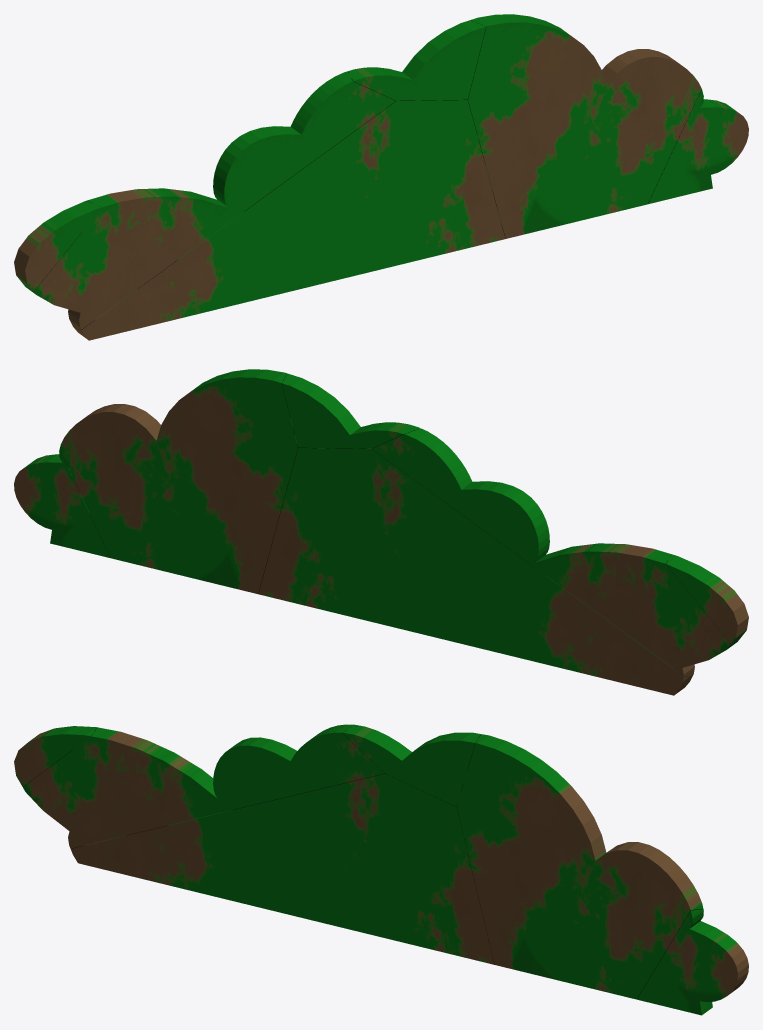
Rendered from Arbusto3.fbx.
The picture shows the model from 3 angles, top to bottom: view 1: azimuth 30°, elevation 25°; view 2: azimuth 150°, elevation 25°; view 3: azimuth 330°, elevation 25°; orthographic projection.
Parts seen in each view (by area): view 1: arbusto 3_cell.003, arbusto 3_cell, arbusto 3_cell.001, arbusto 3_cell.006, arbusto 3_cell.004, arbusto 3_cell.007; view 2: arbusto 3_cell.003, arbusto 3_cell, arbusto 3_cell.001, arbusto 3_cell.004, arbusto 3_cell.006, arbusto 3_cell.007; view 3: arbusto 3_cell.003, arbusto 3_cell, arbusto 3_cell.001, arbusto 3_cell.004, arbusto 3_cell.006, arbusto 3_cell.007.
Part boxes in pixels (bbox=[...]): arbusto 3_cell.003: bbox=[68, 99, 505, 340]; arbusto 3_cell: bbox=[467, 14, 701, 238]; arbusto 3_cell.001: bbox=[21, 71, 395, 329]; arbusto 3_cell.006: bbox=[348, 20, 485, 100]; arbusto 3_cell.004: bbox=[648, 89, 748, 204]; arbusto 3_cell.007: bbox=[14, 201, 101, 291]; arbusto 3_cell.003: bbox=[258, 447, 691, 695]; arbusto 3_cell: bbox=[59, 369, 298, 593]; arbusto 3_cell.001: bbox=[372, 428, 739, 676]; arbusto 3_cell.004: bbox=[14, 450, 110, 557]; arbusto 3_cell.006: bbox=[282, 373, 420, 448]; arbusto 3_cell.007: bbox=[666, 554, 748, 643]; arbusto 3_cell.003: bbox=[70, 773, 494, 964]; arbusto 3_cell: bbox=[457, 734, 703, 999]; arbusto 3_cell.001: bbox=[23, 724, 384, 848]; arbusto 3_cell.004: bbox=[637, 909, 748, 1015]; arbusto 3_cell.006: bbox=[342, 725, 480, 806]; arbusto 3_cell.007: bbox=[14, 726, 96, 786].
Size of the model in its own units: 669 by 192 by 17.73.
